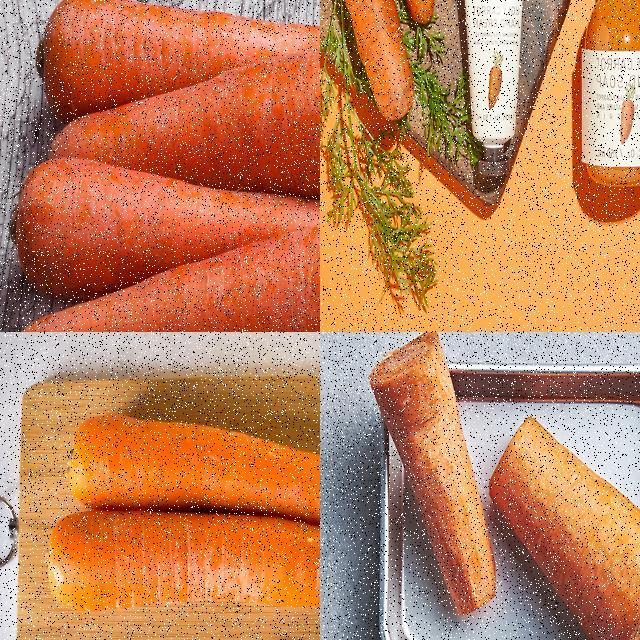carrot: (7, 157, 319, 304), (48, 52, 319, 211), (367, 332, 499, 619), (34, 0, 319, 124), (487, 415, 639, 639), (65, 409, 319, 531), (14, 233, 319, 331), (320, 0, 417, 123)
